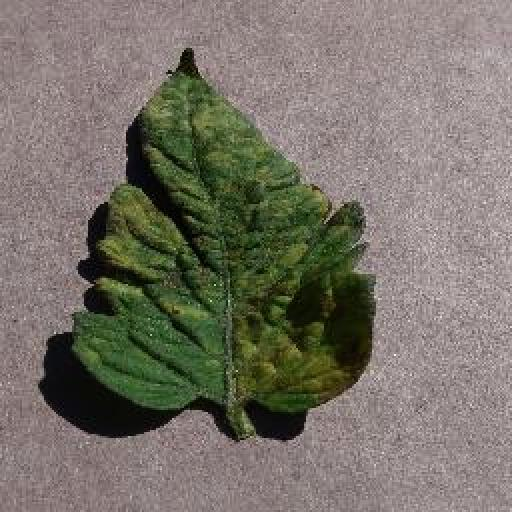disease_tomato: (76, 44, 376, 414)
